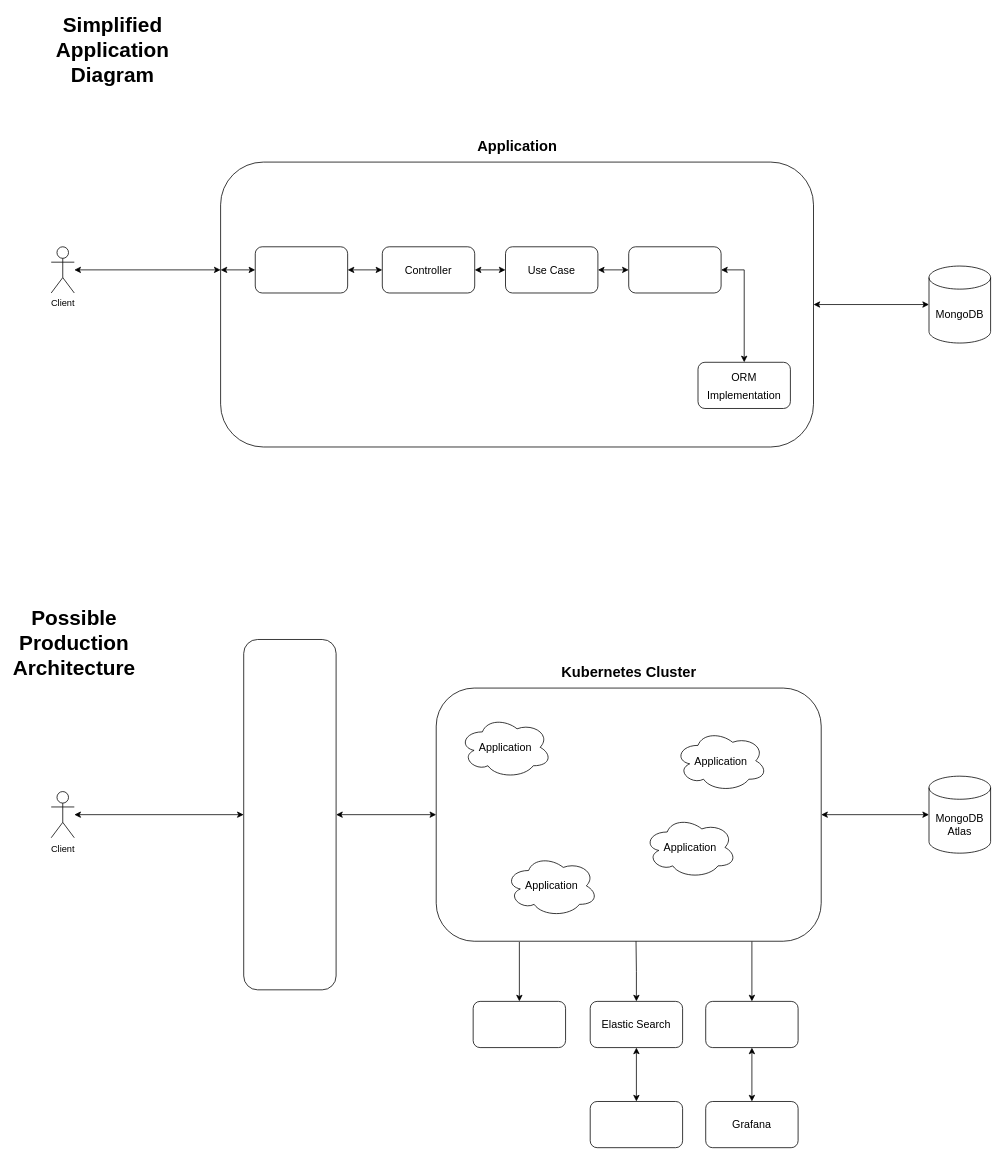
The diagram is 1004 pixels wide and 1161 high, and some of its shapes have lost their labels. Here are the shapes that lost their labels. From the top down, the centre of each, then its label:
At pixel 301 269: "Logging Middleware".
At pixel 674 269: "Repository".
At pixel 289 814: "API Gateway".
At pixel 519 1024: "Sentry".
At pixel 751 1024: "Prometheus".
At pixel 636 1124: "Kibana".
